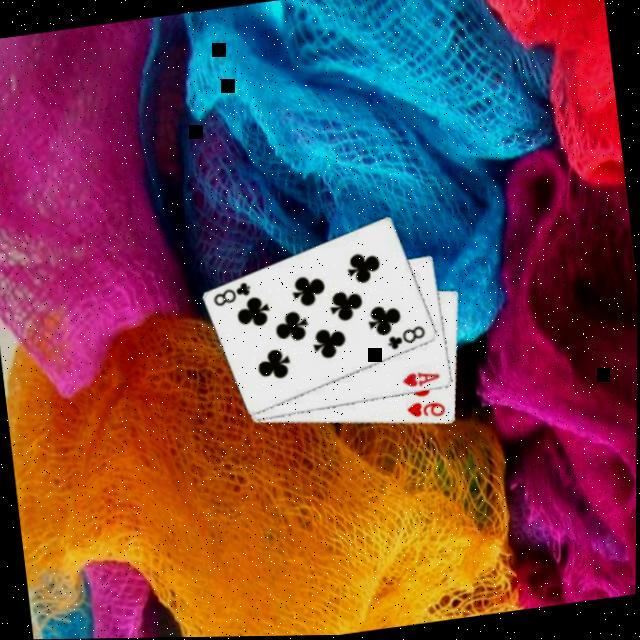8C: (381, 324, 428, 356), (208, 279, 254, 311)
9H: (402, 398, 447, 426)
AH: (398, 368, 442, 393)
